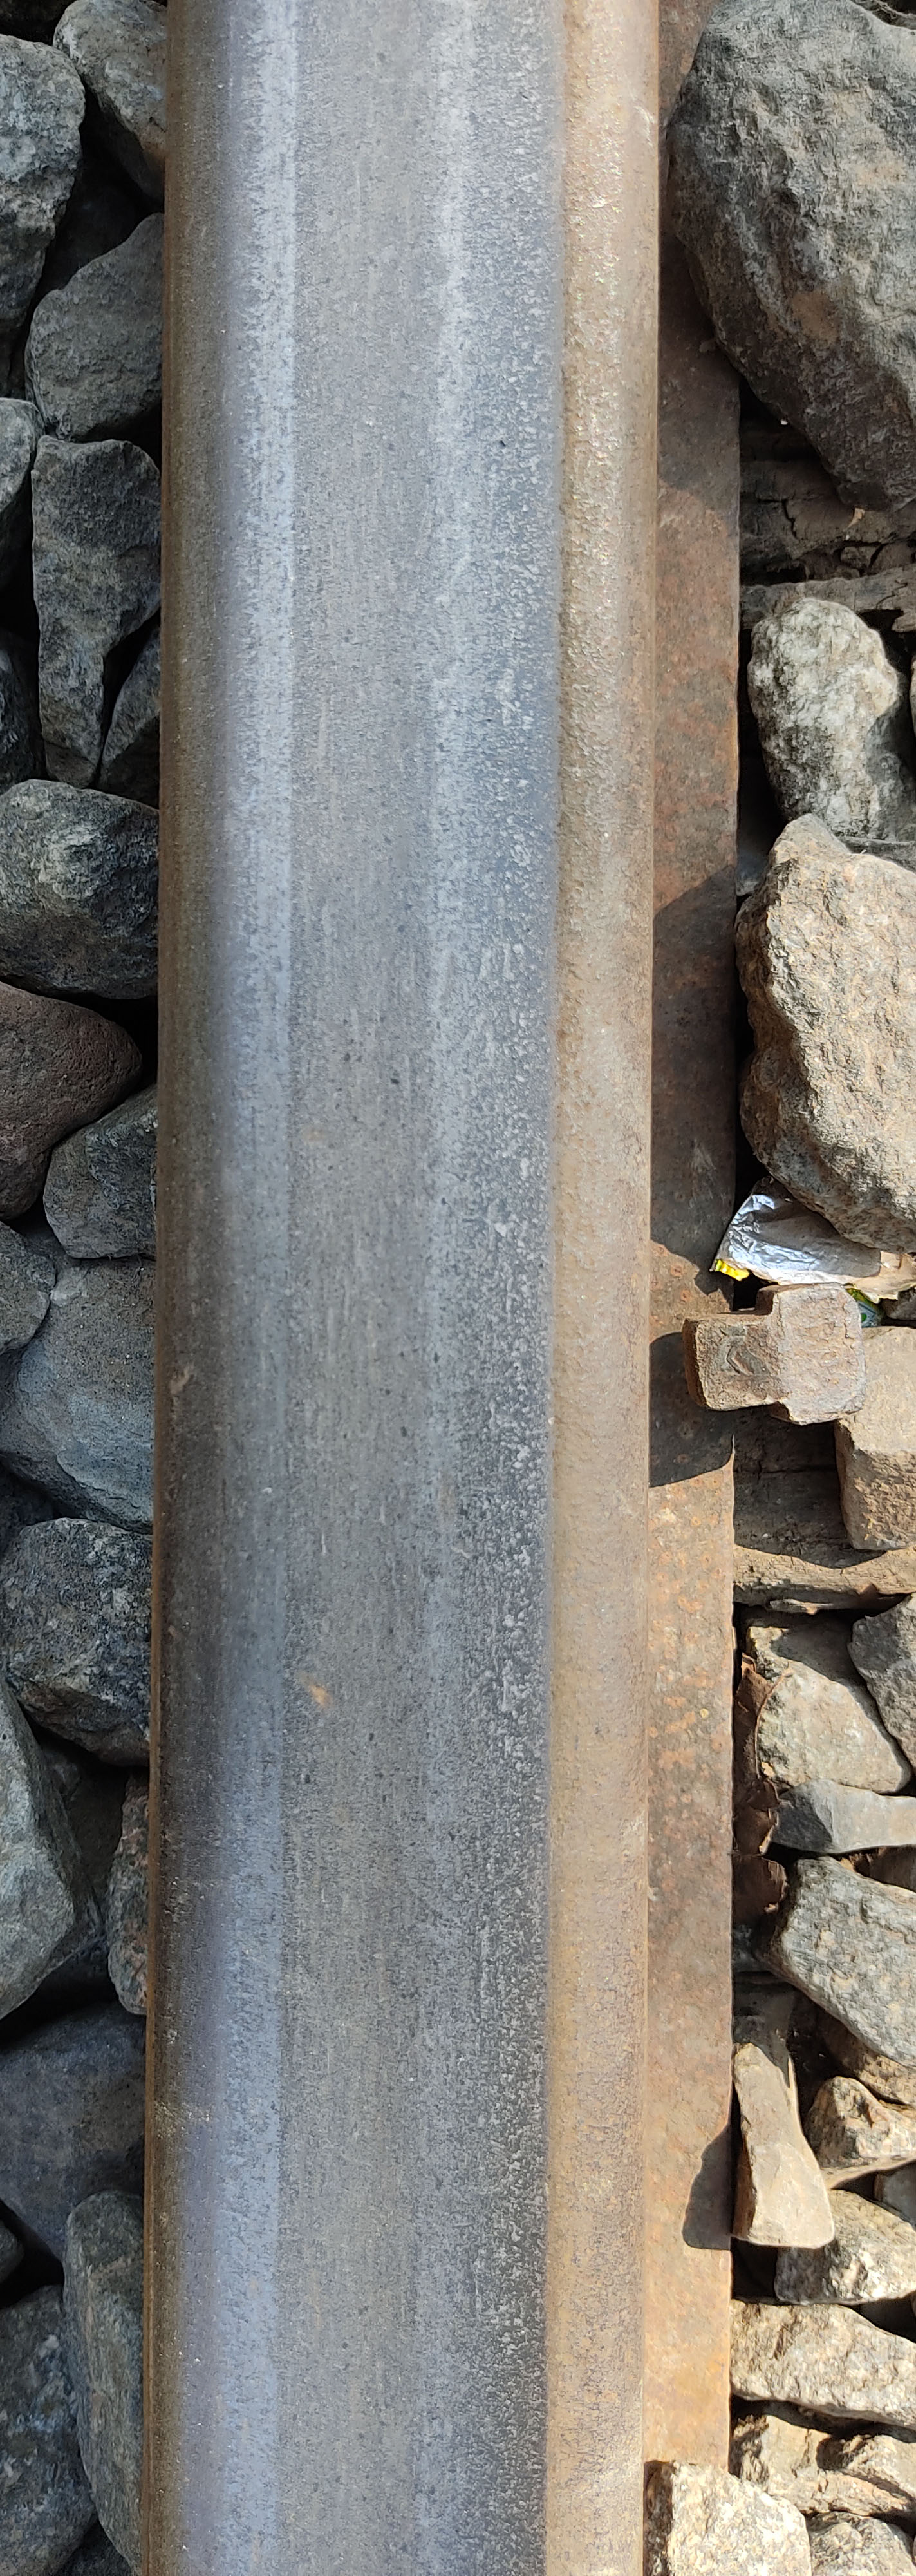error1: (630, 1120, 908, 1525)
